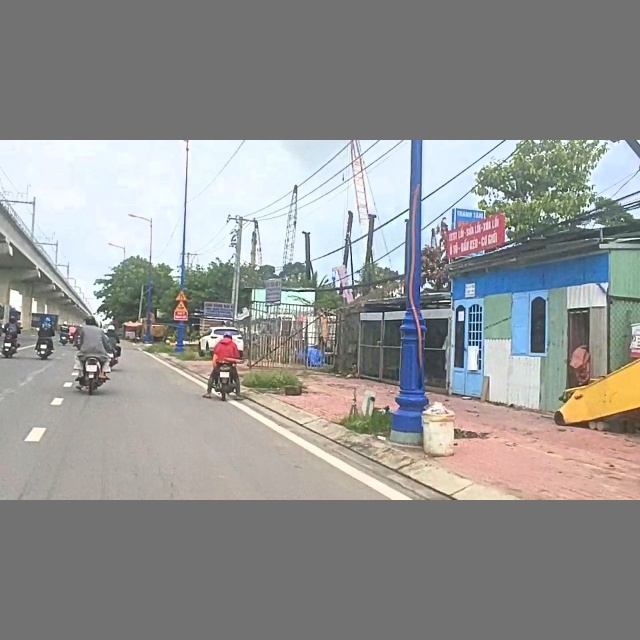W.203c: (175, 290, 188, 300)
W.245a: (175, 300, 189, 311)
